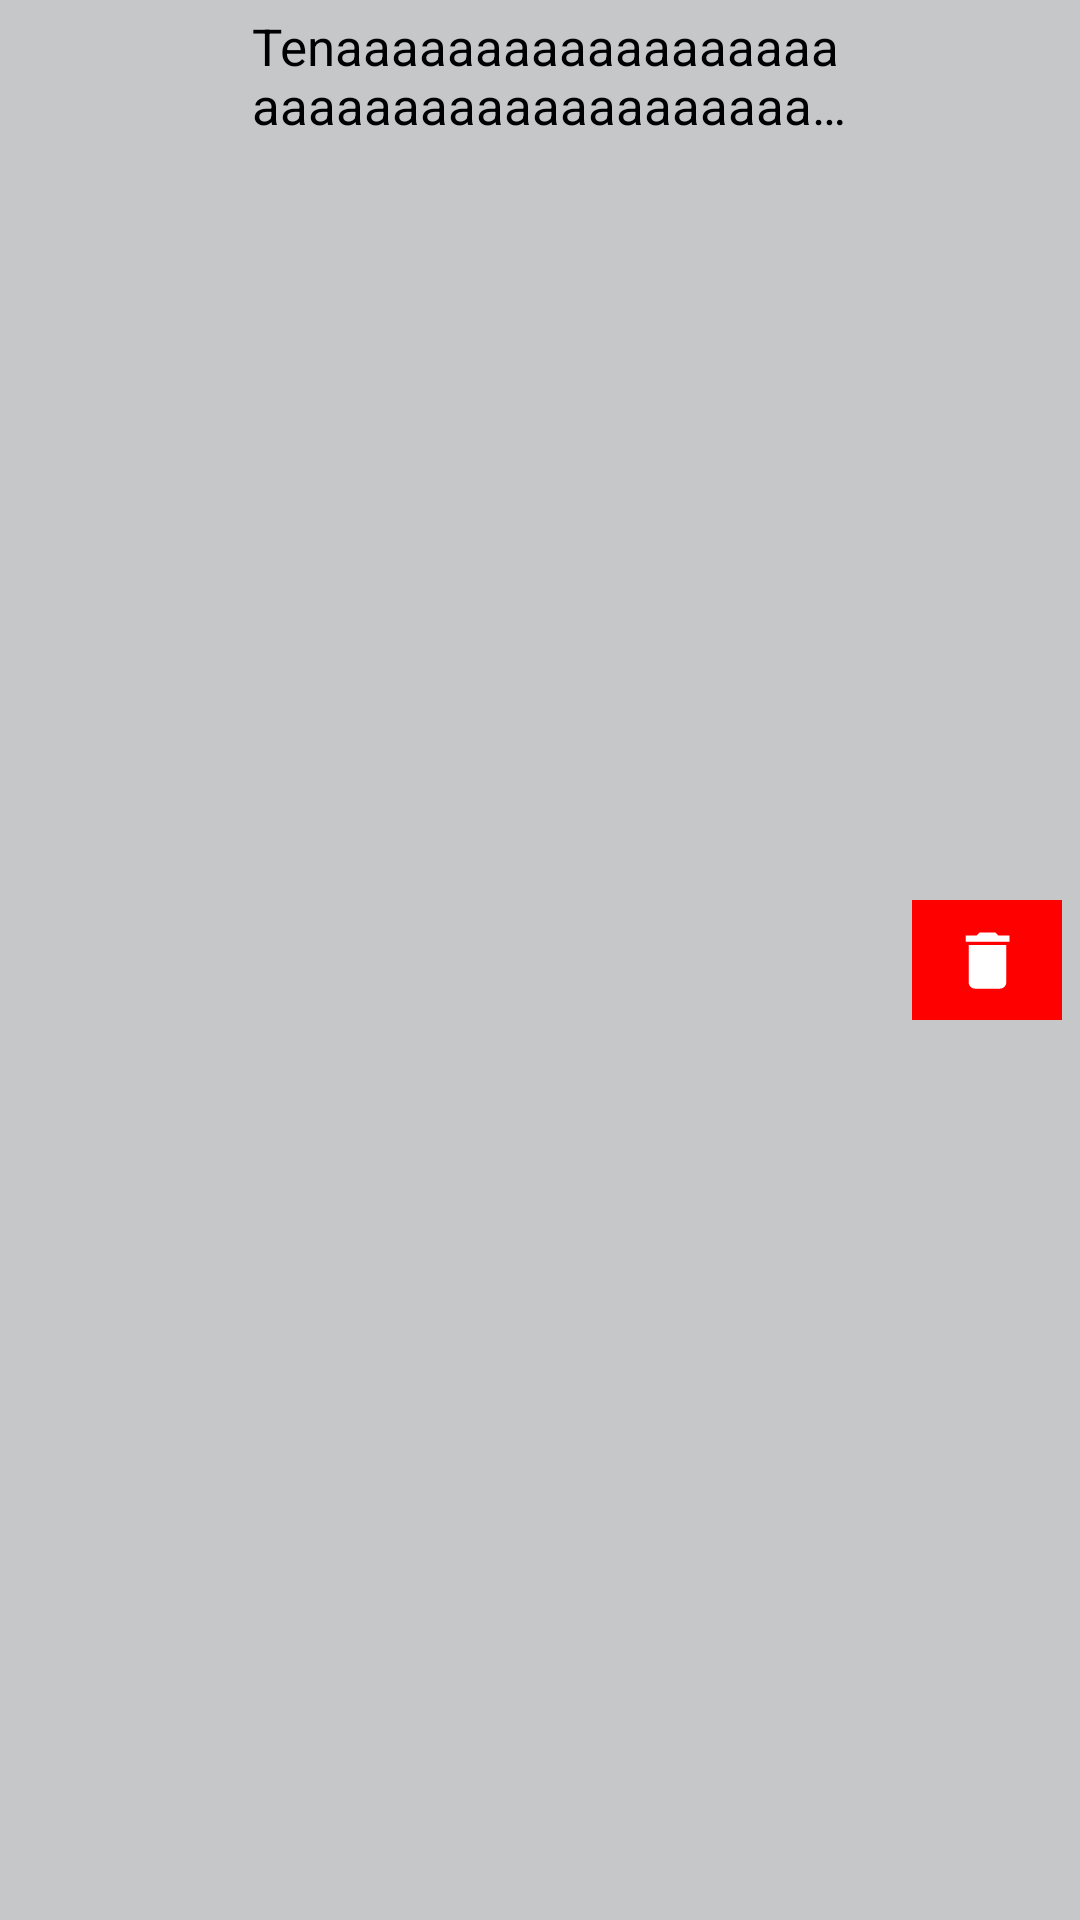

Icon click points for this 1080*1920 phone screenshot, format point (x, y):
delete: point (987, 960)
